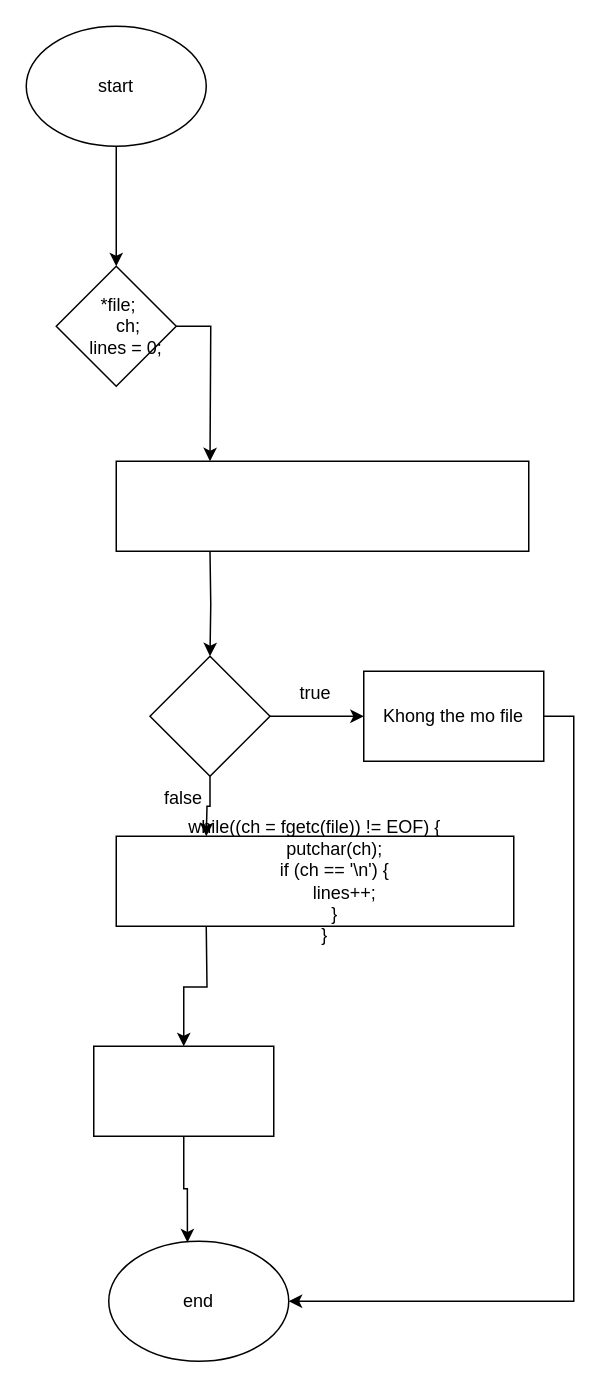
Some shapes in this 612 by 1388 pixel diagram are drawn without their labels. The shapes that lost their labels are listed below. From the top down, each one's centre as x and y in pixels, then its label:
(322,505): file = fopen("C:\\Users\\ADMIN\\Desktop\\bt03.txt", "r");
(209,715): f == null
(183,1090): fclose(file)
